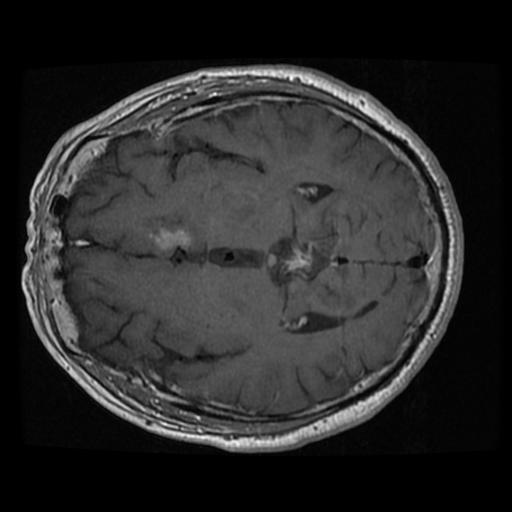pituitary tumour: (150, 223, 191, 255)
